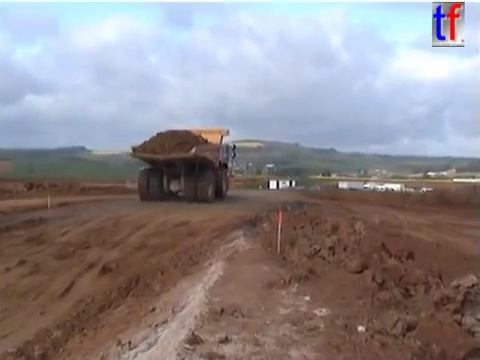truck: (128, 126, 236, 203)
